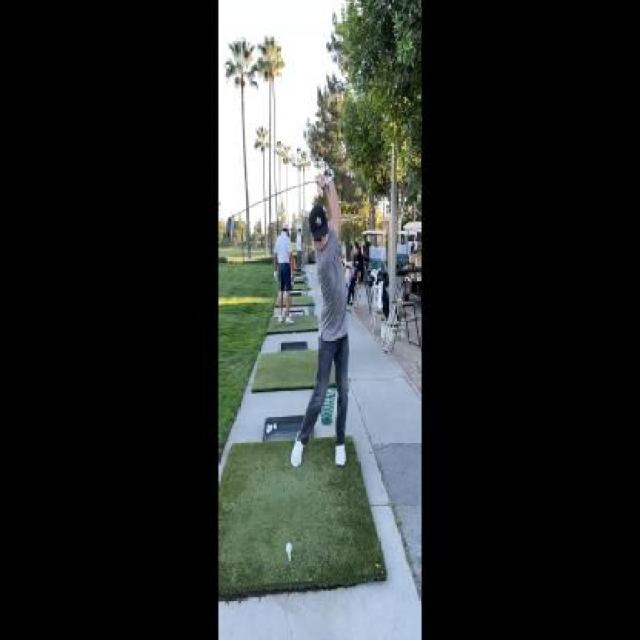club head: (224, 212, 236, 239)
